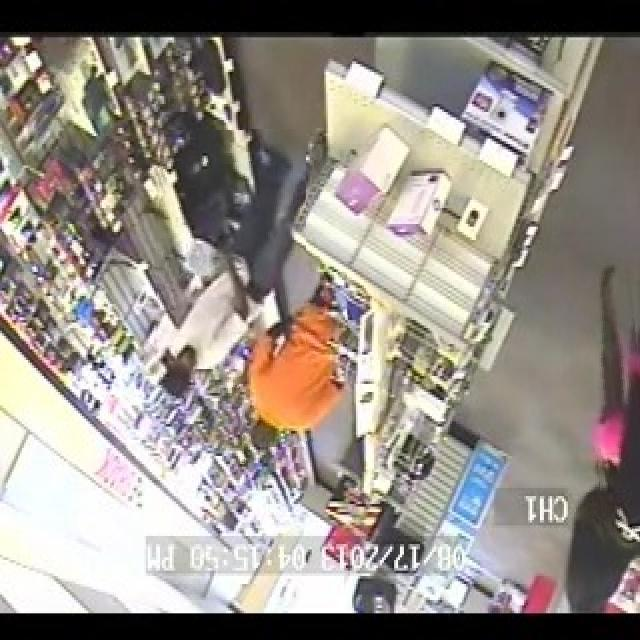normal: (154, 129, 306, 409), (242, 272, 347, 465), (586, 245, 640, 561)
